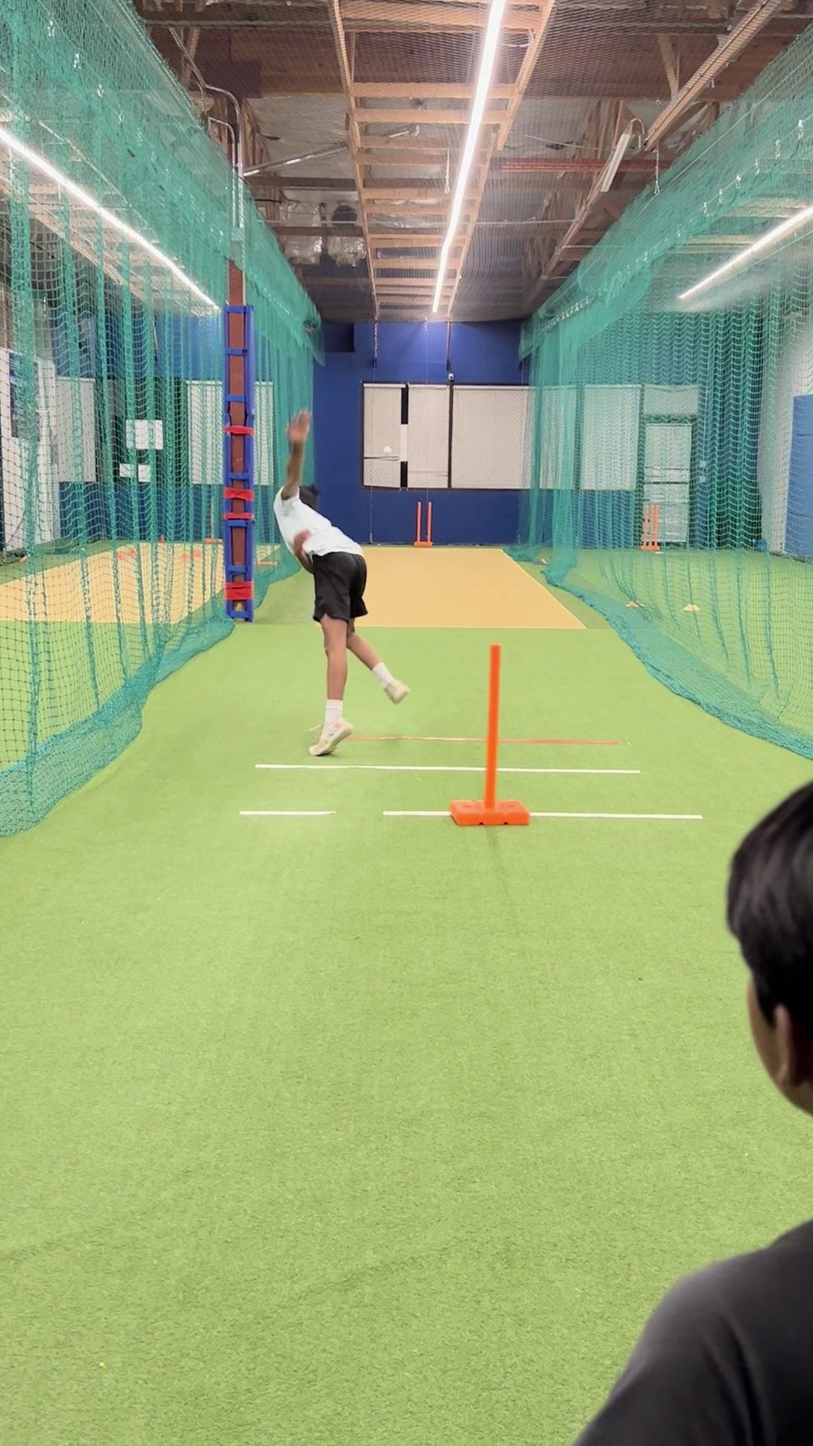ball: (379, 442, 395, 460)
